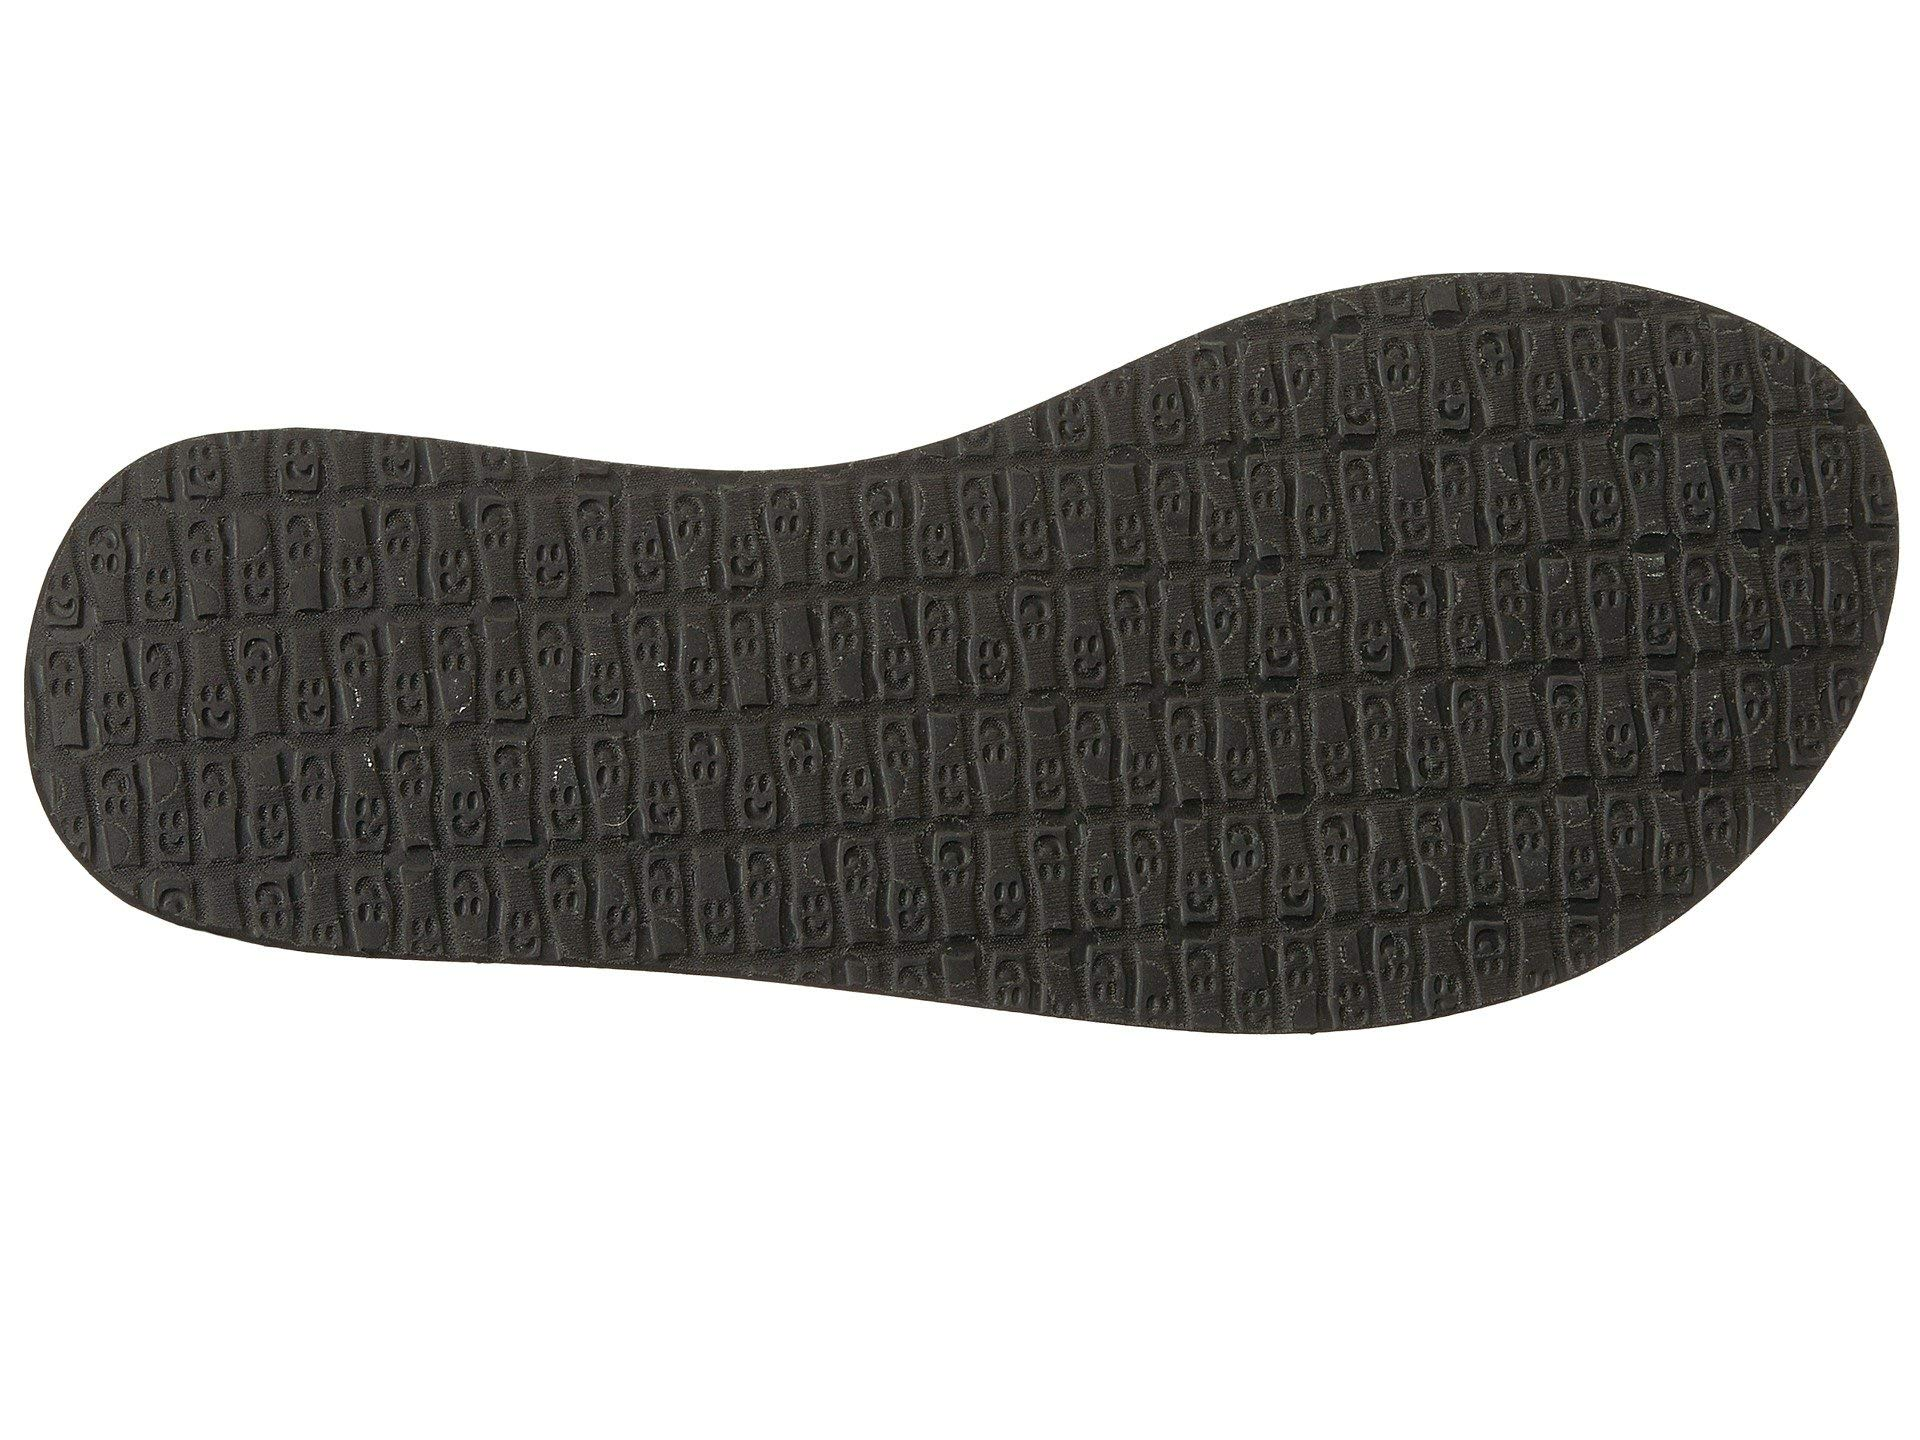circle: (144, 479, 1550, 967), (1547, 380, 1822, 812), (1123, 325, 1534, 439)
quad: (144, 479, 1550, 967), (1547, 380, 1822, 812), (1123, 325, 1534, 439)
